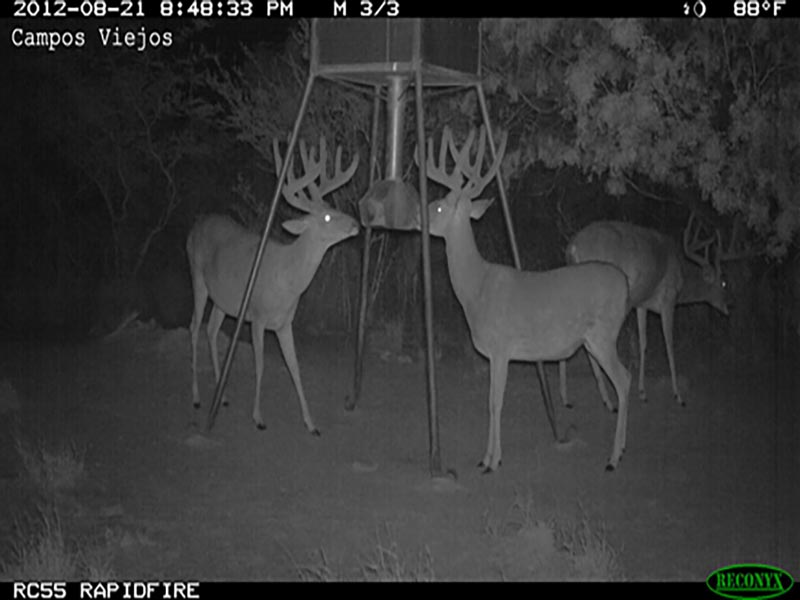cervo: (430, 145, 635, 468), (181, 138, 365, 426), (565, 206, 752, 402)
